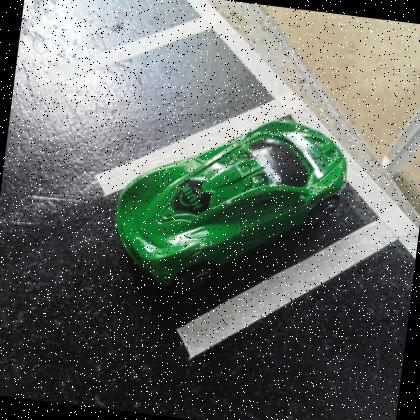Car: (114, 117, 347, 296)
